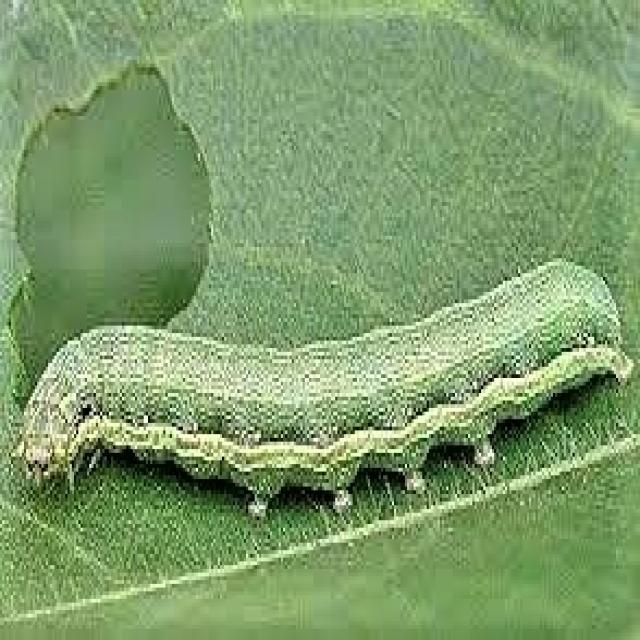armyworm: (11, 251, 633, 516)
